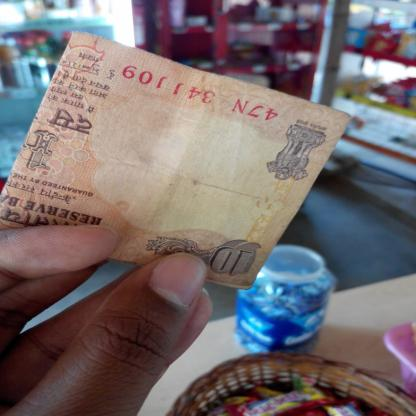Old10Front: (0, 29, 354, 291)
